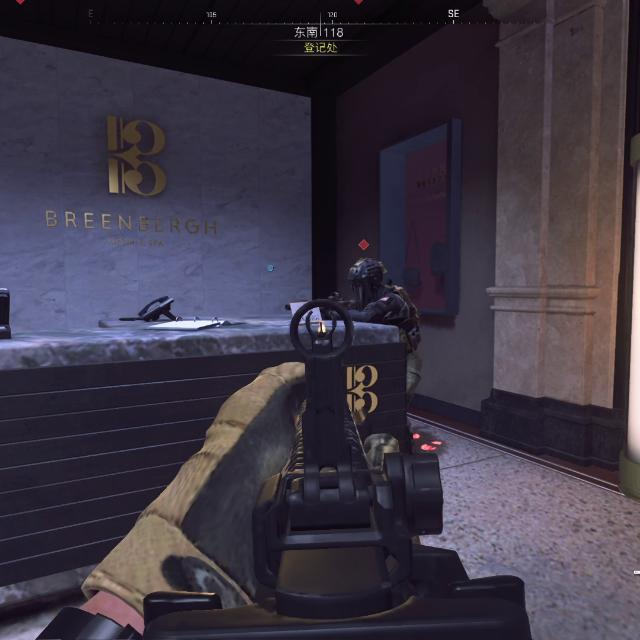MW2_body: (350, 239, 417, 328)
